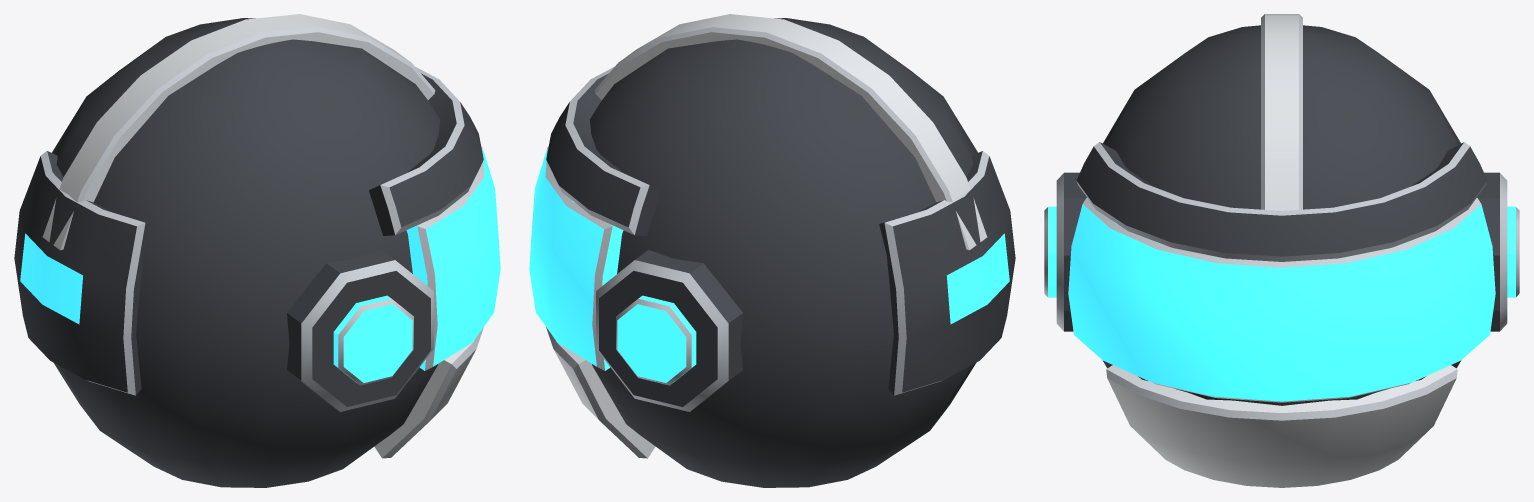
File: SM_MRHead.glb
3 renders of one model, left to right at view 1: azimuth 30°, elevation 25°; view 2: azimuth 150°, elevation 25°; view 3: azimuth 270°, elevation 25°, orthographic. The views are drawn at different scales.
Visible parts, largest first — view 1: SM_MRHead; view 2: SM_MRHead; view 3: SM_MRHead.
Part boxes in pixels (x1,y1,x2,y2): SM_MRHead: (14, 14, 500, 487); SM_MRHead: (529, 14, 1015, 487); SM_MRHead: (1044, 14, 1519, 487).
Bounding box in the file's own units: 0.2519 × 0.249 × 0.251.
